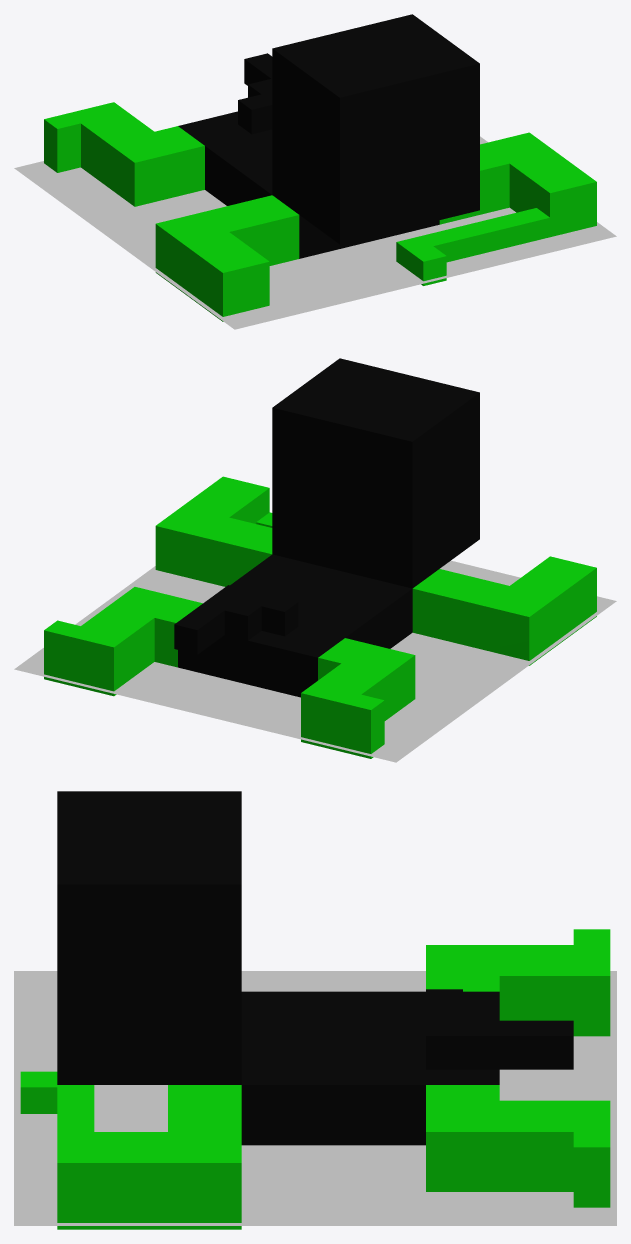
Rendered from snake_unknown_body_v5.FBX.
The picture shows the model from 3 angles, top to bottom: view 1: azimuth 30°, elevation 25°; view 2: azimuth 150°, elevation 25°; view 3: azimuth 270°, elevation 25°; orthographic projection. The views are drawn at different scales.
Visible parts, largest first — view 1: snake_unknown_body_v5, snake_unknown_soft_shadow; view 2: snake_unknown_body_v5, snake_unknown_soft_shadow; view 3: snake_unknown_body_v5, snake_unknown_soft_shadow.
Boxes of the visible parts, box(x1,y1,x2,y2) form: snake_unknown_body_v5: box(44, 14, 596, 321); snake_unknown_soft_shadow: box(14, 136, 616, 329); snake_unknown_body_v5: box(44, 358, 596, 758); snake_unknown_soft_shadow: box(14, 560, 616, 762); snake_unknown_body_v5: box(20, 791, 610, 1229); snake_unknown_soft_shadow: box(14, 971, 616, 1225).
Size of the model in its own units: 81.79 by 40 by 81.79.
